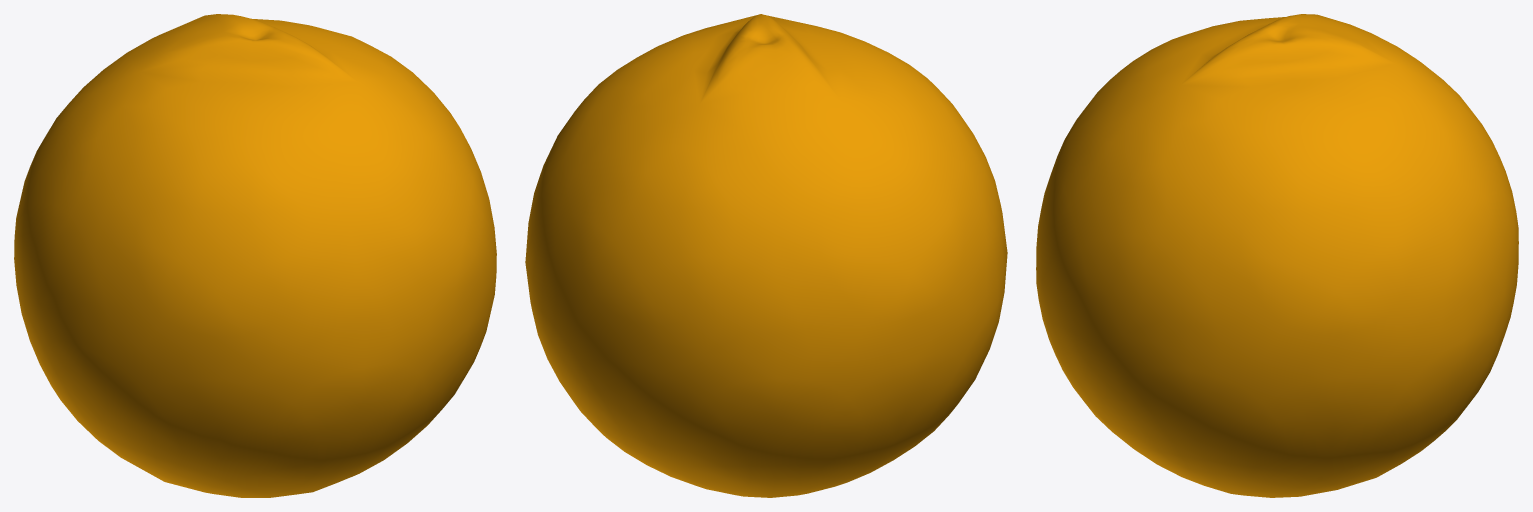
The model's file is orange_good.fbx.
The picture shows the model from 3 angles, left to right: view 1: azimuth 30°, elevation 25°; view 2: azimuth 150°, elevation 25°; view 3: azimuth 270°, elevation 25°; orthographic projection.
Visible parts, largest first — view 1: polySurface25; view 2: polySurface25; view 3: polySurface25.
Part boxes in pixels (x1,y1,x2,y2): polySurface25: (14,14,496,497); polySurface25: (525,14,1007,497); polySurface25: (1036,14,1518,497).
Bounding box in the file's own units: 1.2 × 1.21 × 1.19.
